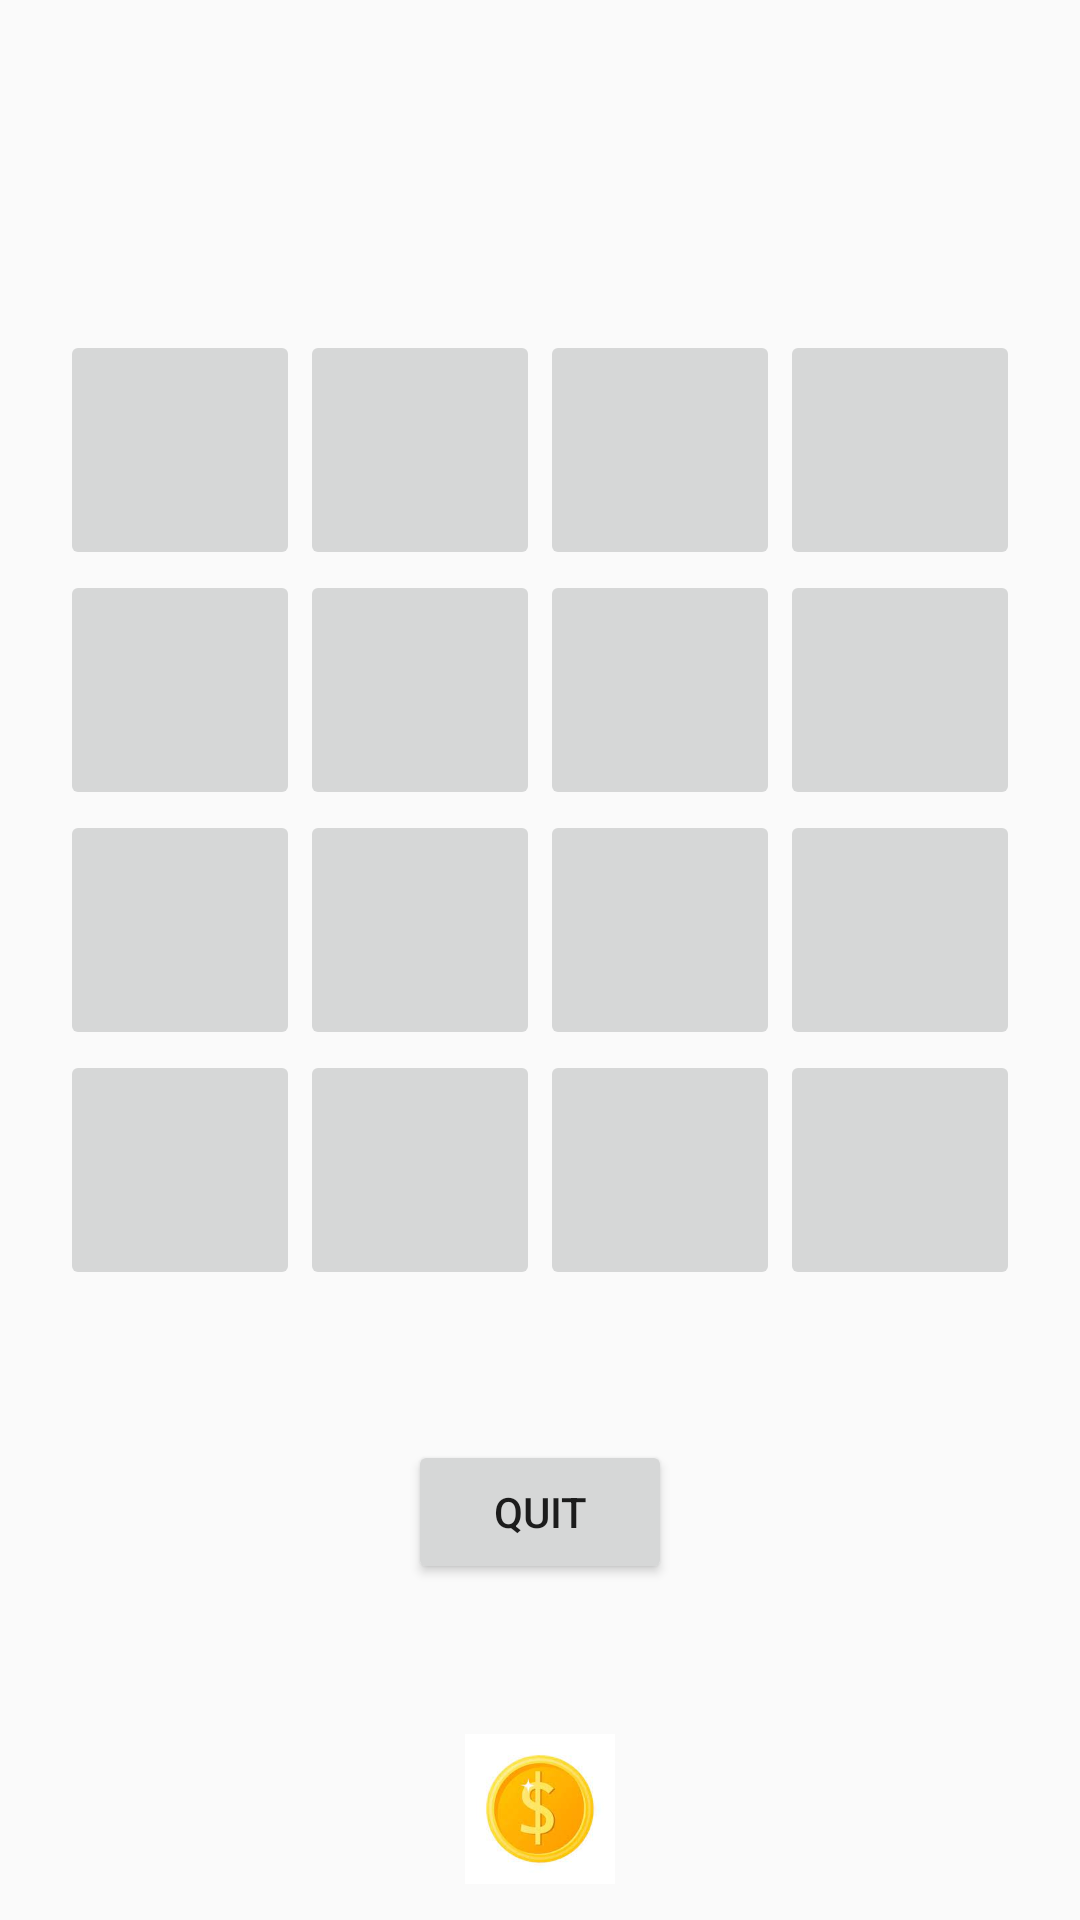

Locate icon controls on the screen. Image size 1080px x 1920px, boxes as (x1, y1, x2, y2).
moneda: (486, 1755, 595, 1864)
